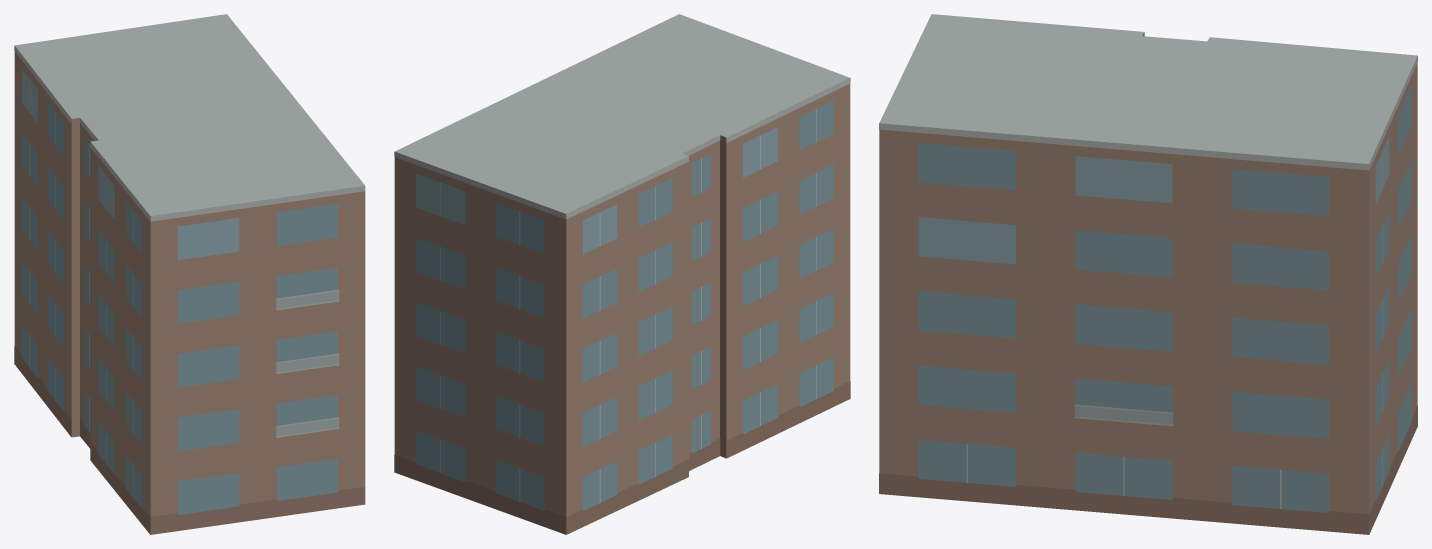
Rendered from survey-upis-32675080.glb.
3 renders of one model, left to right at view 1: azimuth 30°, elevation 25°; view 2: azimuth 150°, elevation 25°; view 3: azimuth 270°, elevation 25°, orthographic. The views are drawn at different scales.
Visible parts, largest first — view 1: survey-upis-32675080.tmp; view 2: survey-upis-32675080.tmp; view 3: survey-upis-32675080.tmp.
Boxes of the visible parts, left/top/right/bottom form: survey-upis-32675080.tmp: left=14, top=14, right=365, bottom=534; survey-upis-32675080.tmp: left=394, top=14, right=850, bottom=534; survey-upis-32675080.tmp: left=879, top=14, right=1417, bottom=534.
Bounding box in the file's own units: 12.35 × 14.2 × 18.71.
